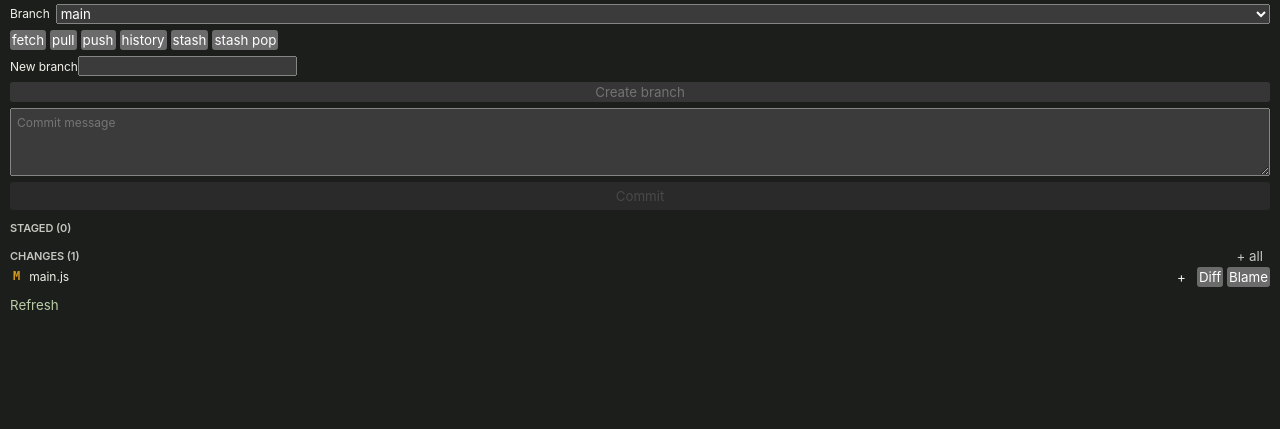
Test: Git diff and hunk controls send exact reviewed diff; failed action remains visible after refresh
Click the button with aria-label "Diff main.js". click: (1210, 277)
box: [1197,267,1223,287]
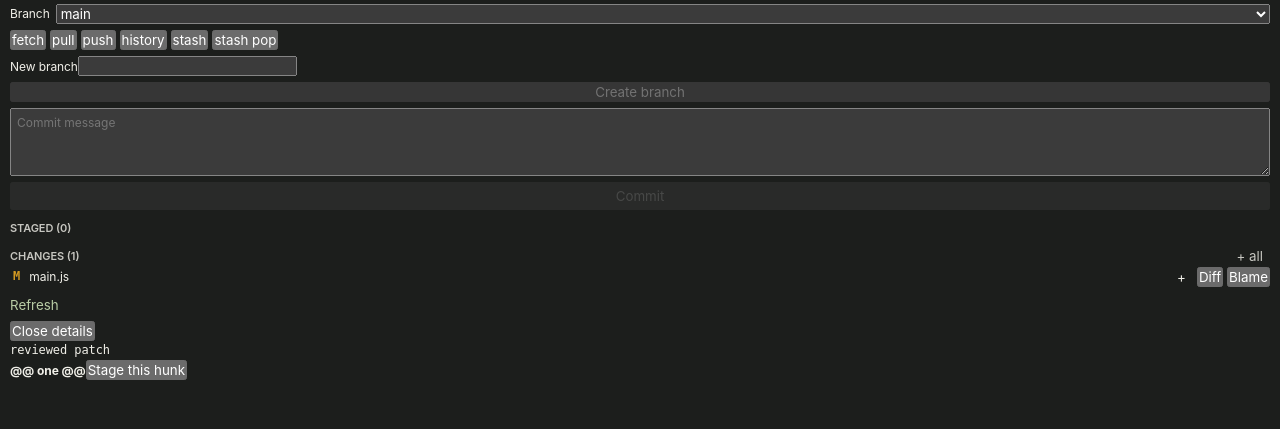
Expected: the text "reviewed patch" is shown, [10,343,110,357]
Click the button "Stage this hunk". click: (136, 370)
box: [86,360,187,380]
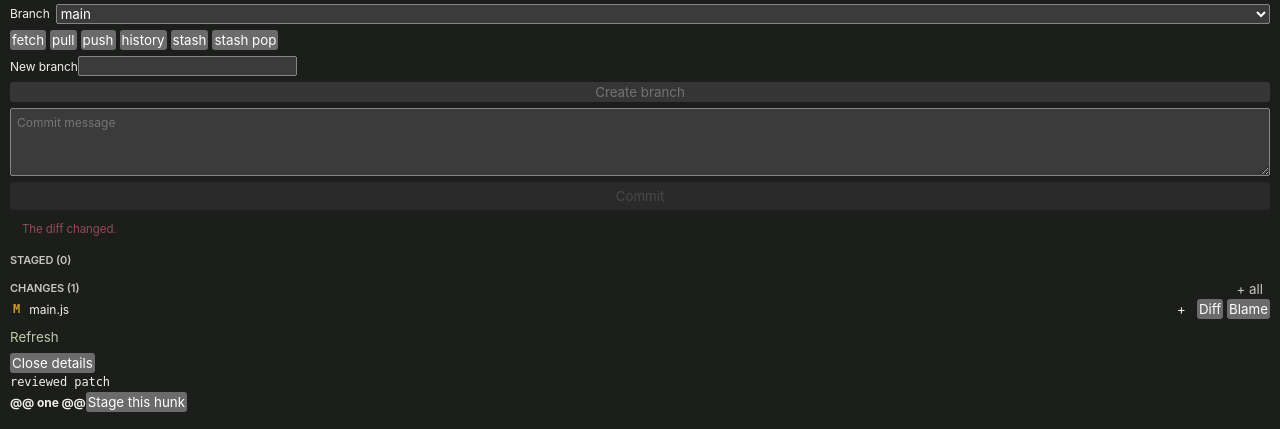
Expected: the message reads "The diff changed.", [22,222,117,236]
